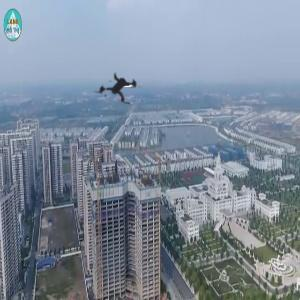drone: (82, 53, 157, 128)
